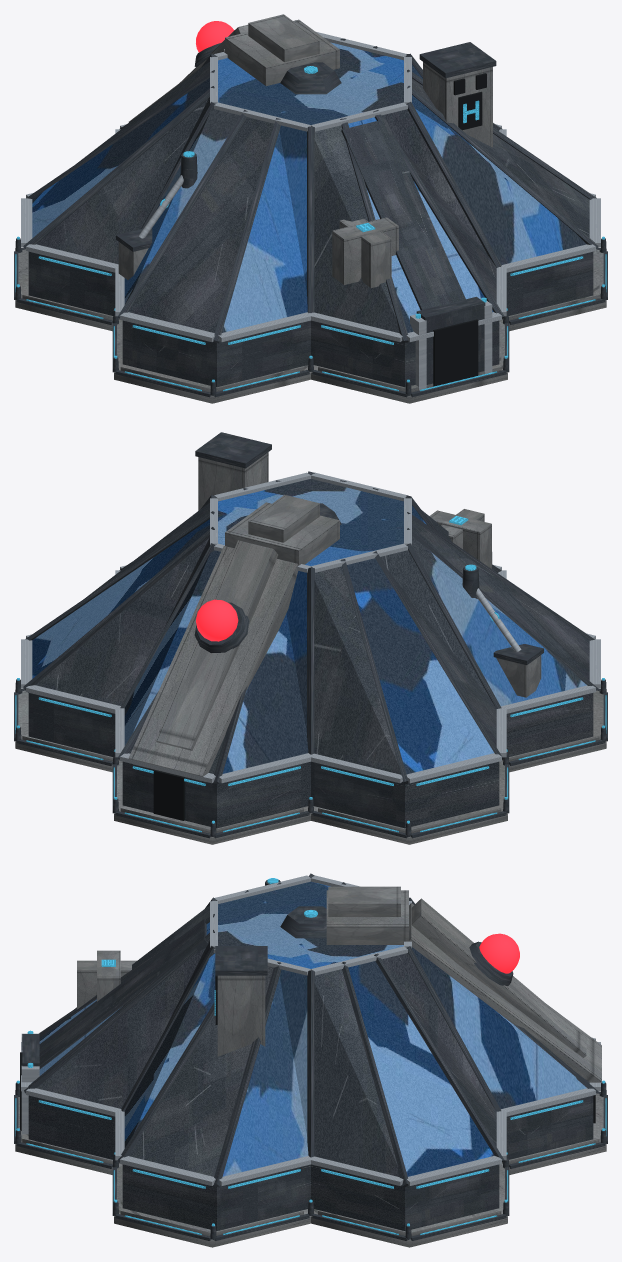
The model's file is grand-hall.glb.
The picture shows the model from 3 angles, top to bottom: view 1: azimuth 30°, elevation 25°; view 2: azimuth 150°, elevation 25°; view 3: azimuth 270°, elevation 25°; orthographic projection.
Visible parts, largest first — view 1: apex_cap, roof_cap_c, base_plate_c, cap_trim_0, prow_void, cap_glow_0, beacon_dome; view 2: apex_cap, roof_cap_c, base_plate_c, cap_trim_0, cap_glow_0, prow_void, beacon_dome; view 3: apex_cap, roof_cap_c, base_plate_c, cap_trim_0, cap_glow_0, beacon_dome.
Boxes of the visible parts, left/top/right/bottom form: apex_cap: left=14, top=38, right=607, bottom=397; roof_cap_c: left=32, top=42, right=586, bottom=332; base_plate_c: left=15, top=14, right=606, bottom=403; cap_trim_0: left=21, top=32, right=600, bottom=390; prow_void: left=433, top=73, right=486, bottom=386; cap_glow_0: left=15, top=66, right=606, bottom=391; beacon_dome: left=196, top=21, right=234, bottom=52; apex_cap: left=14, top=432, right=607, bottom=838; roof_cap_c: left=32, top=479, right=586, bottom=774; base_plate_c: left=15, top=452, right=606, bottom=844; cap_trim_0: left=21, top=472, right=600, bottom=783; cap_glow_0: left=15, top=516, right=606, bottom=832; prow_void: left=153, top=770, right=184, bottom=820; beacon_dome: left=196, top=599, right=238, bottom=641; apex_cap: left=14, top=873, right=607, bottom=1240; roof_cap_c: left=32, top=881, right=586, bottom=1176; base_plate_c: left=15, top=886, right=606, bottom=1247; cap_trim_0: left=21, top=875, right=600, bottom=1185; cap_glow_0: left=15, top=878, right=606, bottom=1234; beacon_dome: left=479, top=933, right=519, bottom=973.
Bounding box in the file's own units: 36.04 × 16.2 × 37.59.
7 materials, 5 textured.
